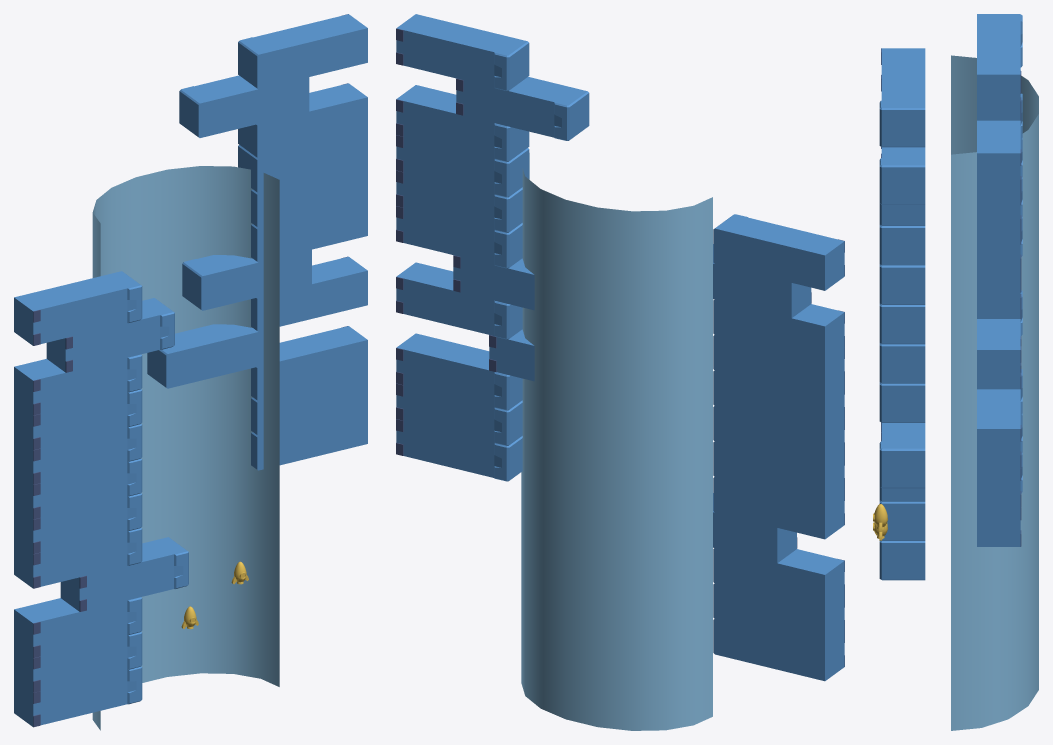
The model's file is SourceMap.fbx.
3 views of the same model, side by side, from view 1: azimuth 30°, elevation 25°; view 2: azimuth 150°, elevation 25°; view 3: azimuth 270°, elevation 25° (orthographic). The views are drawn at different scales.
Visible parts, largest first — view 1: Cylinder006, Cylinder007, Cylinder003, Cylinder002, Box046, Box044, Cylinder004, Cylinder005, Box045, Box035, Box053, Box047 (+18 smaller); view 2: Cylinder002, Cylinder007, Cylinder003, Cylinder006, Cylinder004, Cylinder005, Box046, Box044, Box054, Box045, Box035, Box047 (+18 smaller); view 3: Cylinder007, Cylinder002, Cylinder006, Box044, Box046, Cylinder005, Cylinder004, Cylinder003, Box054, Box047, Box052, Box036 (+18 smaller).
Part boxes in pixels (x1,y1,x2,y2): Cylinder006: [92, 166, 279, 277]; Cylinder007: [92, 588, 279, 730]; Cylinder003: [141, 419, 279, 517]; Cylinder002: [141, 504, 279, 602]; Box046: [238, 14, 367, 89]; Box044: [14, 271, 142, 345]; Cylinder004: [141, 342, 279, 433]; Cylinder005: [110, 250, 279, 348]; Box045: [179, 75, 309, 137]; Box035: [14, 597, 142, 657]; Box053: [147, 324, 263, 388]; Box047: [238, 83, 367, 158]; Cylinder002: [521, 510, 712, 644]; Cylinder007: [521, 597, 712, 730]; Cylinder003: [521, 428, 712, 557]; Cylinder006: [522, 153, 712, 297]; Cylinder004: [522, 357, 712, 470]; Cylinder005: [522, 255, 712, 384]; Box046: [396, 14, 529, 90]; Box044: [713, 214, 844, 290]; Box054: [396, 333, 522, 410]; Box045: [456, 77, 589, 140]; Box035: [713, 548, 844, 610]; Box047: [396, 85, 529, 161]; Cylinder007: [951, 594, 1038, 730]; Cylinder002: [951, 498, 1038, 634]; Cylinder006: [951, 55, 1038, 250]; Box044: [879, 48, 925, 147]; Box046: [977, 14, 1022, 113]; Cylinder005: [951, 151, 1038, 346]; Cylinder004: [951, 306, 1038, 442]; Cylinder003: [951, 402, 1038, 538]; Box054: [977, 369, 1022, 468]; Box047: [977, 93, 1022, 192]; Box052: [977, 290, 1022, 389]; Box036: [879, 422, 925, 488].
Bounding box in the file's own units: 3412 × 5422 × 1146.
